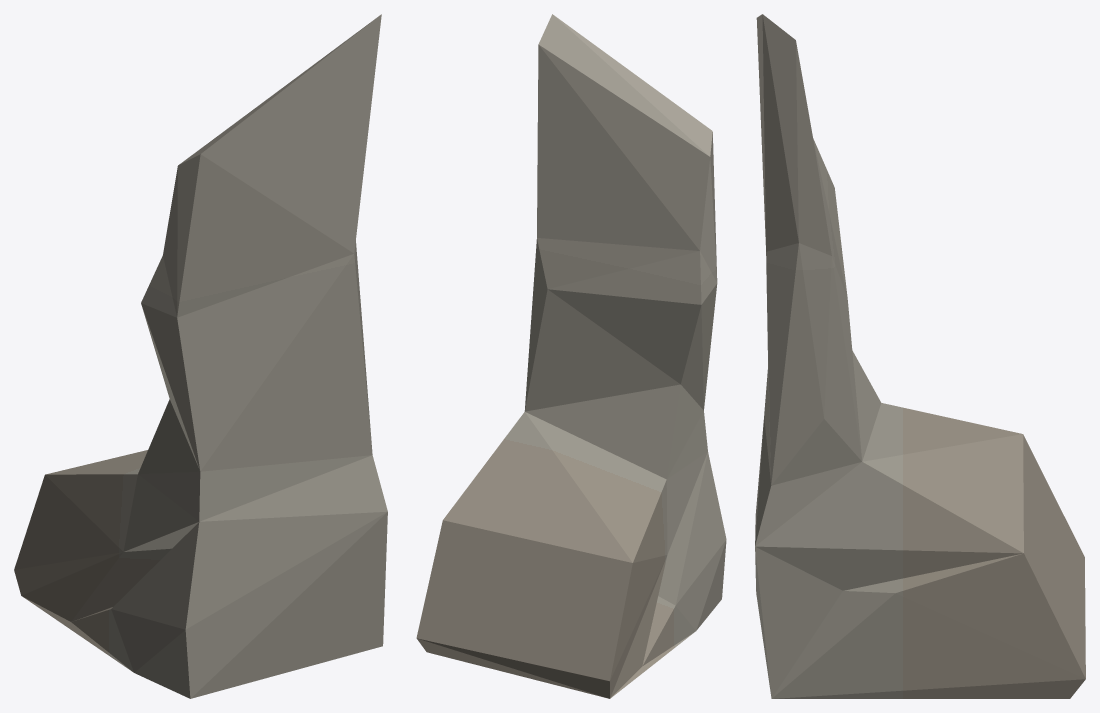
File: YN_PointyRock1.fbx
3 views of the same model, side by side, from view 1: azimuth 30°, elevation 25°; view 2: azimuth 150°, elevation 25°; view 3: azimuth 270°, elevation 25° (orthographic). The views are drawn at different scales.
Parts seen in each view (by area): view 1: PointyRock1; view 2: PointyRock1; view 3: PointyRock1.
Part boxes in pixels (<box>): PointyRock1: <box>14,14,387,698</box>; PointyRock1: <box>416,14,726,698</box>; PointyRock1: <box>755,14,1085,698</box>.
Bounding box in the file's own units: 1.71 × 4.65 × 2.04.
